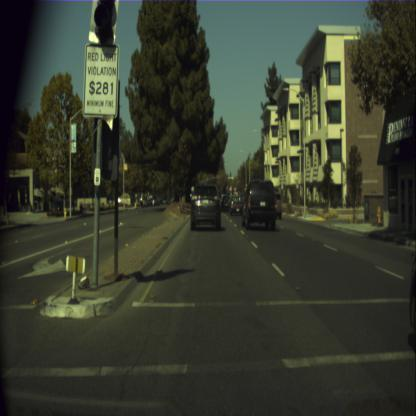off: (93, 0, 114, 36)
